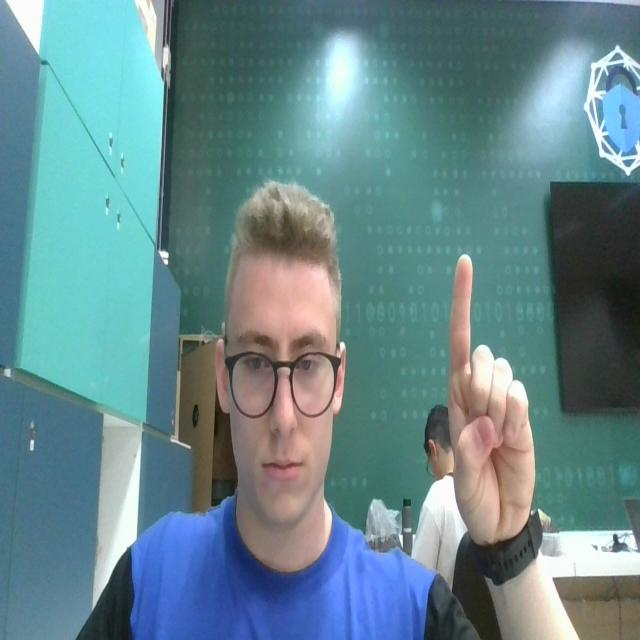D2: (442, 251, 541, 528)
